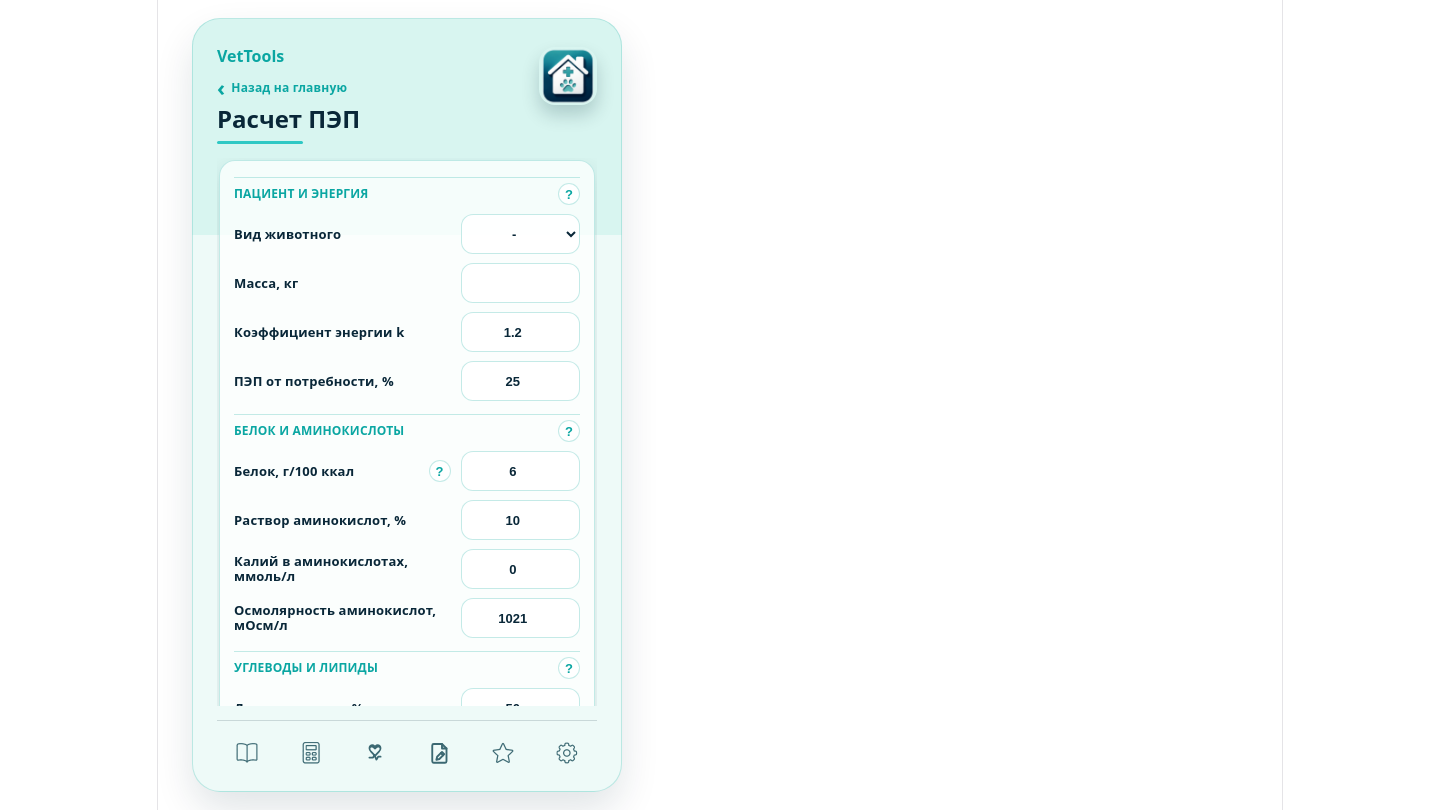
Test: PepPage › switches to the up to 2 kg protocol and shows species-specific protein hints
Select "Кошка" in the dropdown named "Вид животного" at (520, 234), box [460,214,580,254]
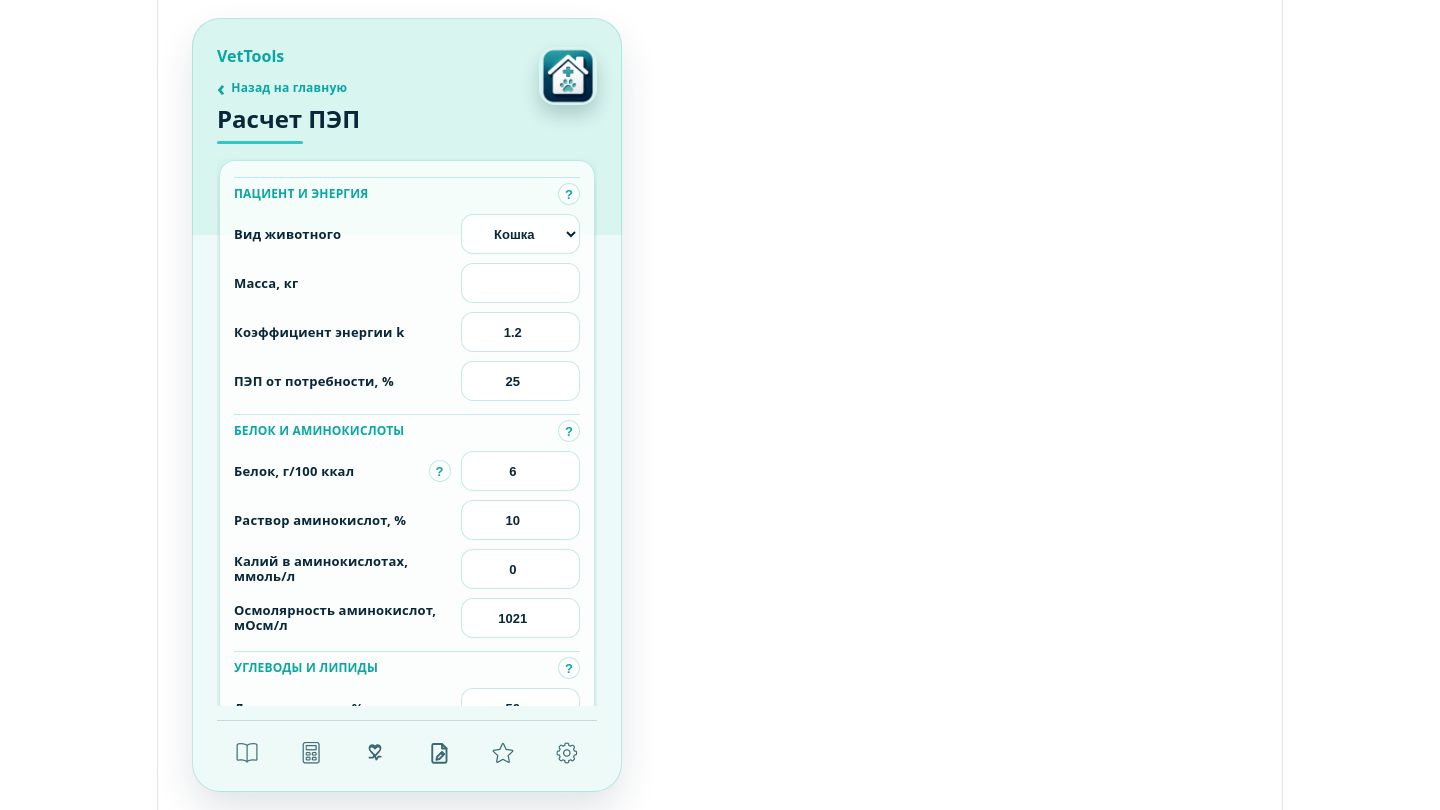
Type "1.6" into the number field named "Масса, кг" at (520, 284), box [460,264,580,304]
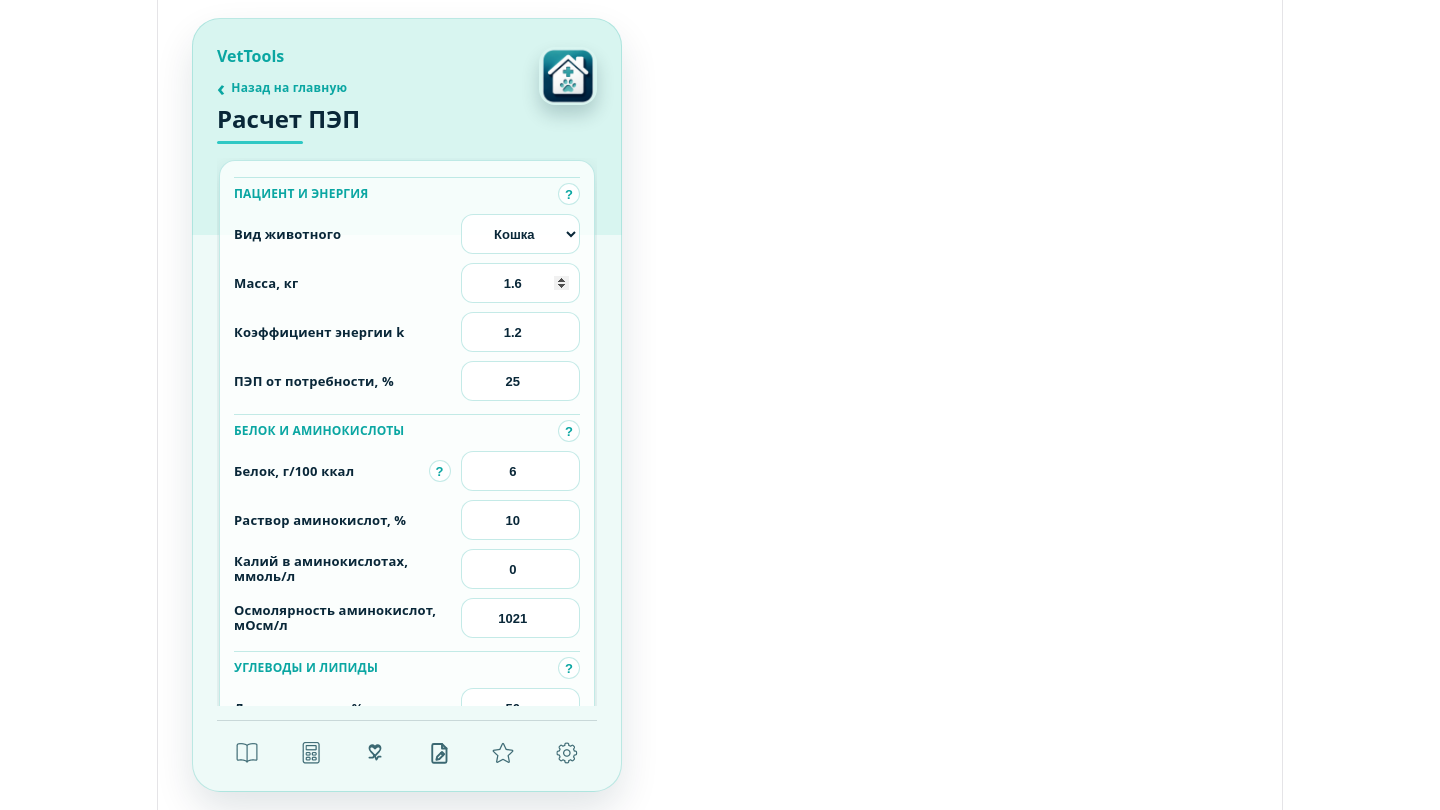
Click the button named "Показать подсказку по белку" at (440, 472), box [428,460,450,482]
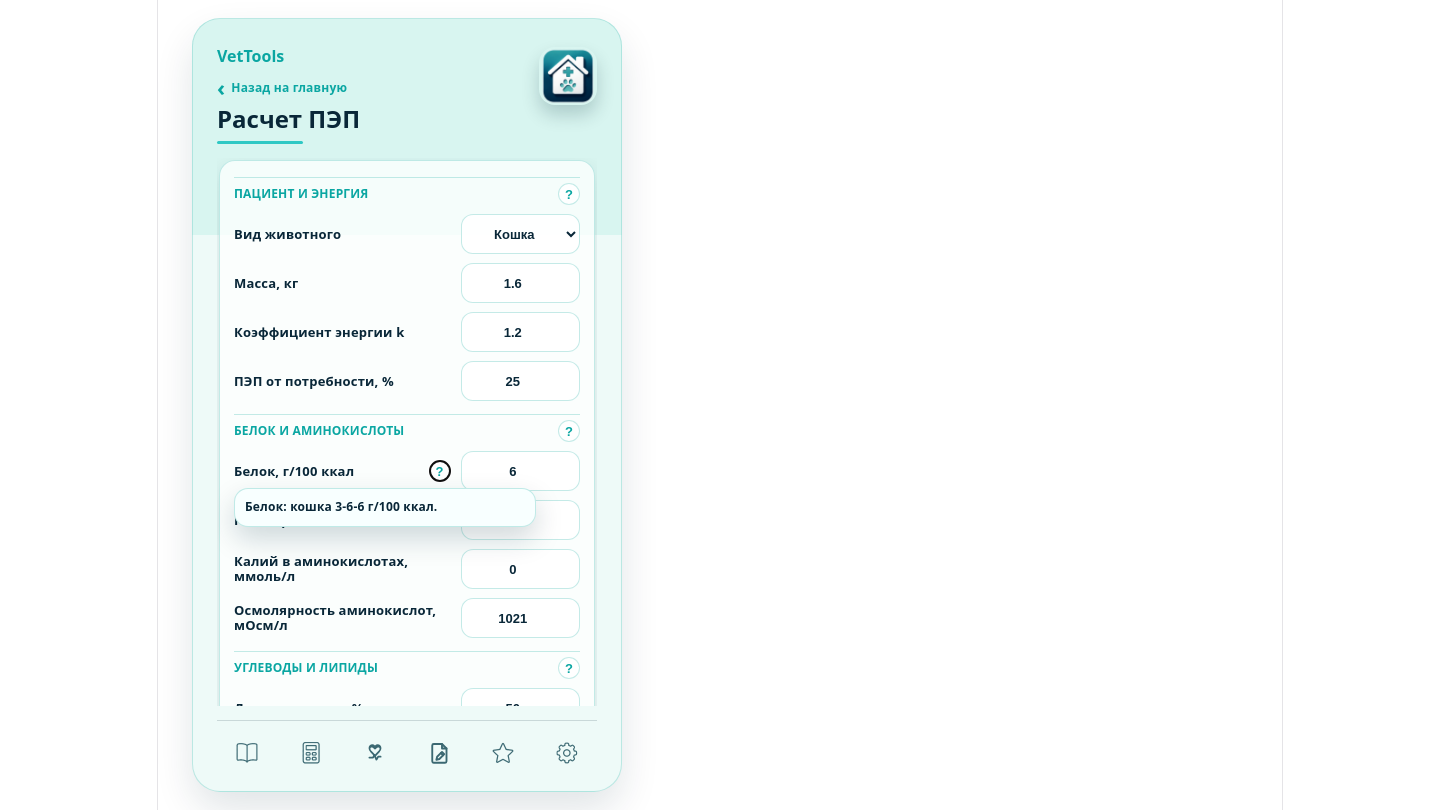
Result: the text "Белок: кошка 3-6-6 г/100 ккал." is shown at [234,488,536,527]
Result: the button named "Показать подсказку по белку" is expanded
Click the button named "Показать подсказку по белку" at (440, 472), box [428,460,450,482]
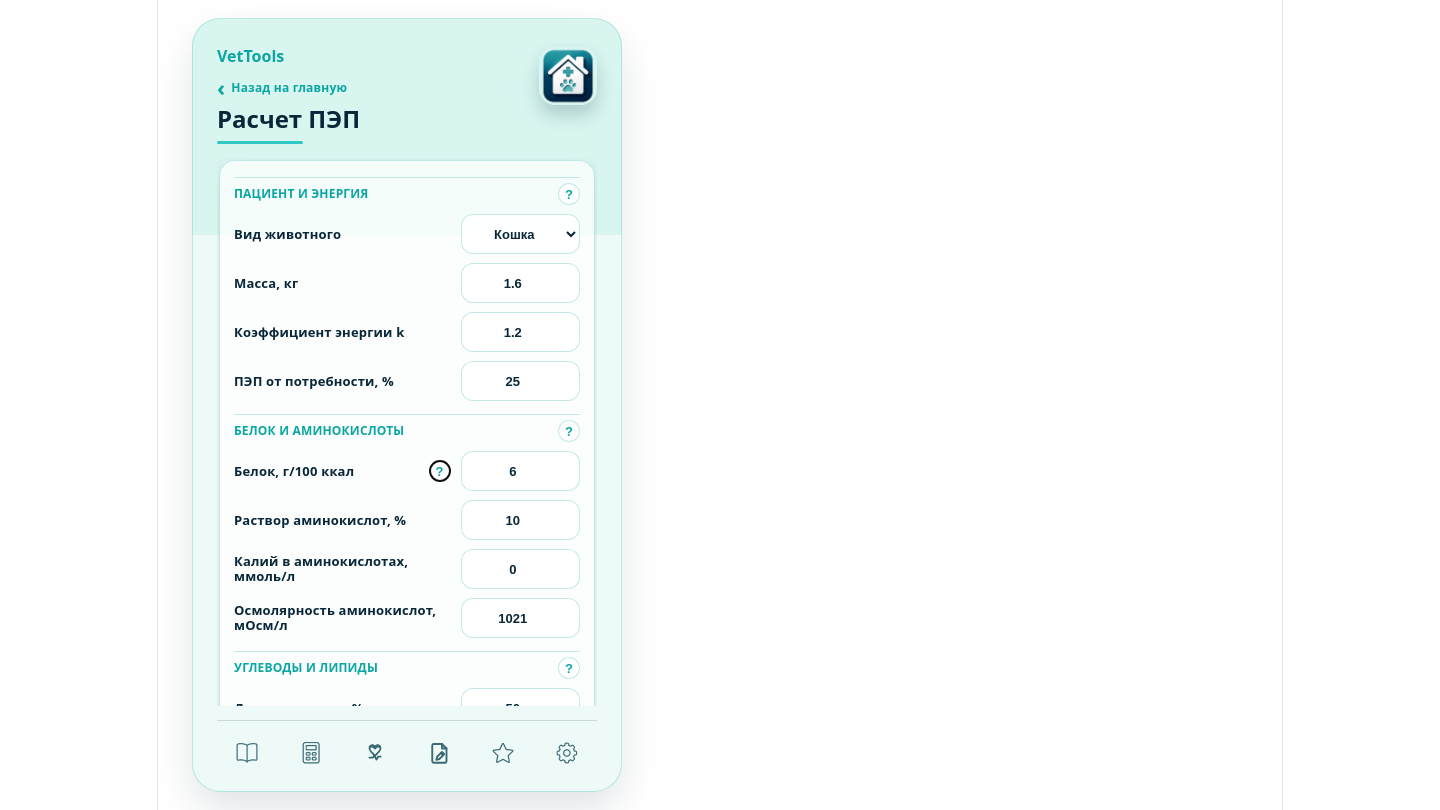
Click the button named "Показать подсказку по белку" at (440, 472), box [428,460,450,482]
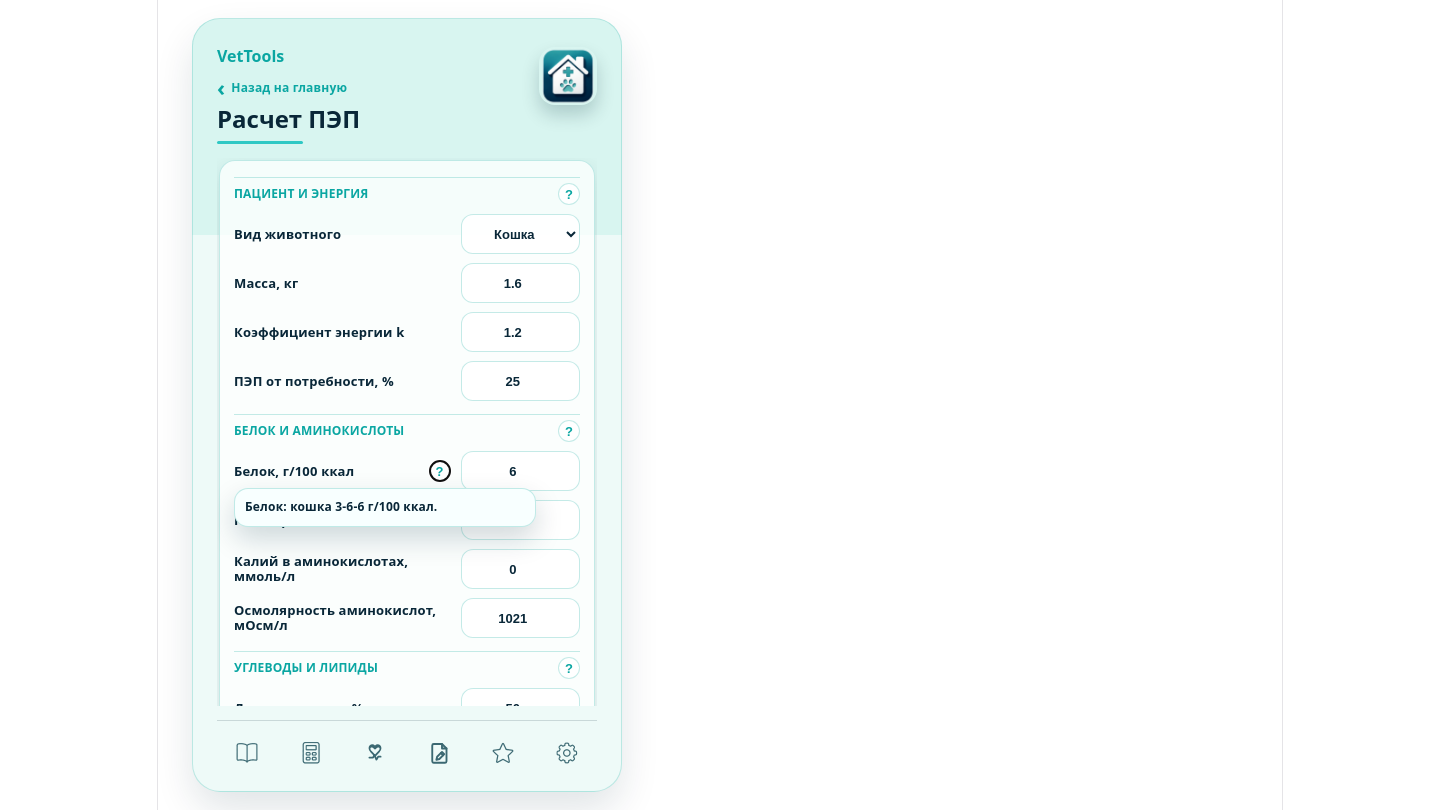
Click the heading "Расчет ПЭП" at (288, 125), box [217,106,360,144]
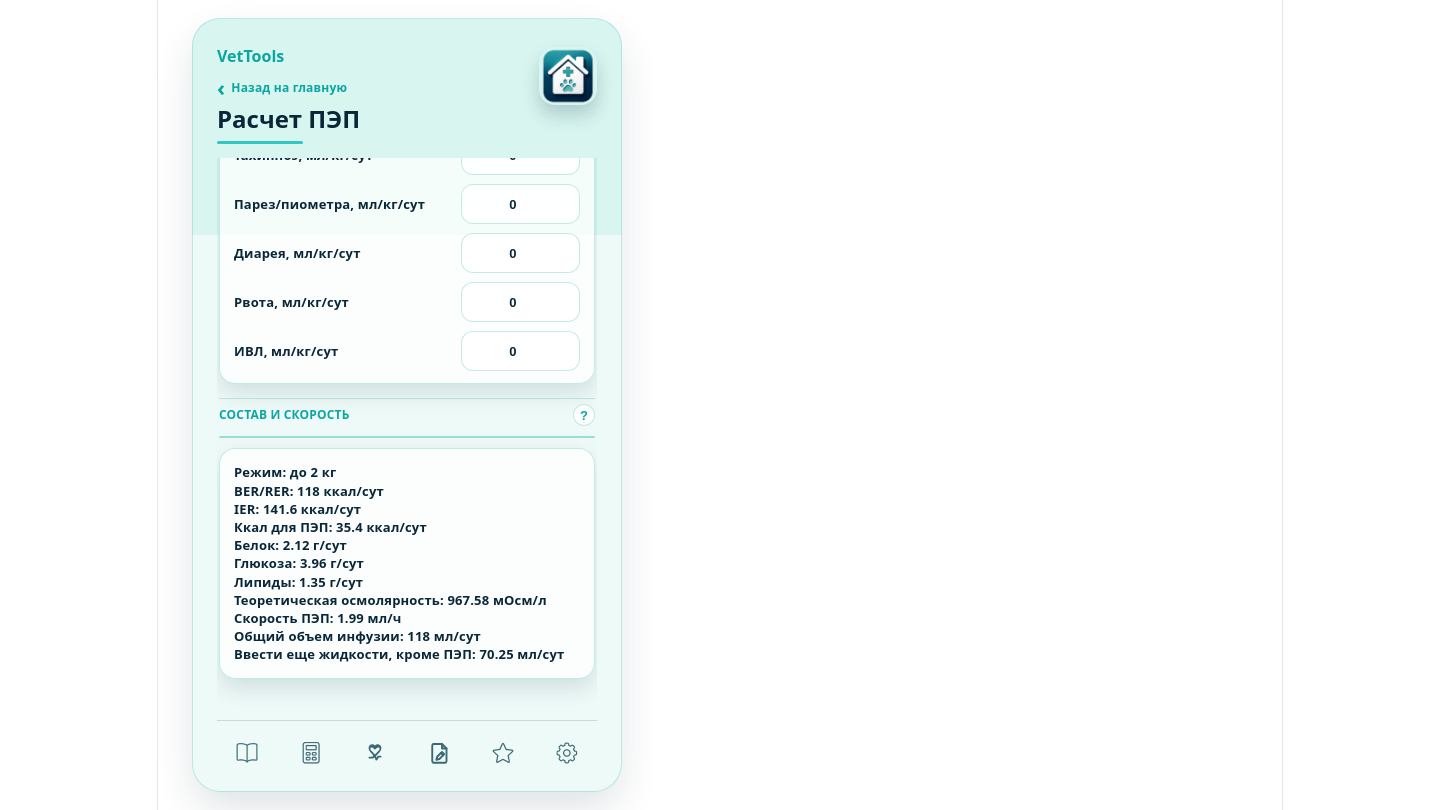
Result: the text "BER/RER: 118 ккал/сут" is shown at [234,464,564,663]
